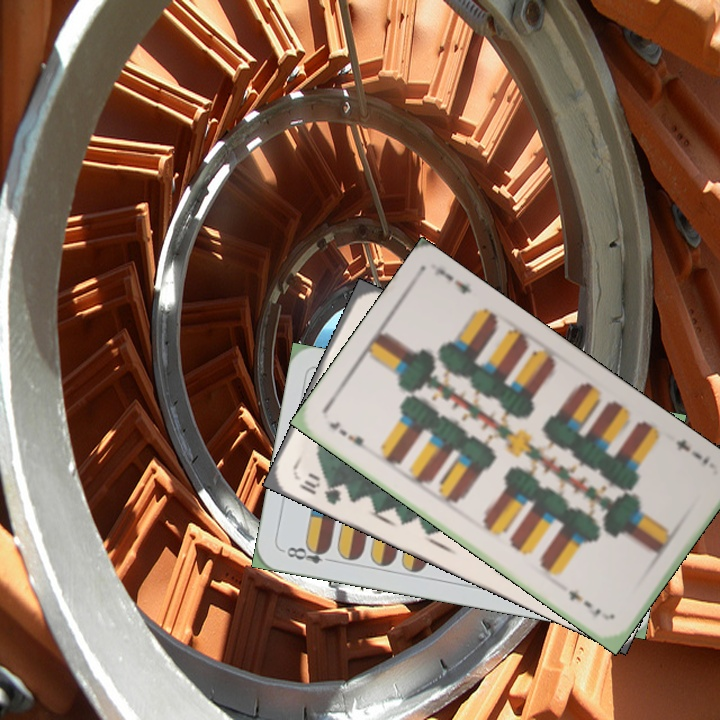E7: (324, 417, 374, 456), (672, 435, 713, 467)
E8: (279, 541, 338, 566)
G10: (294, 468, 352, 508)
